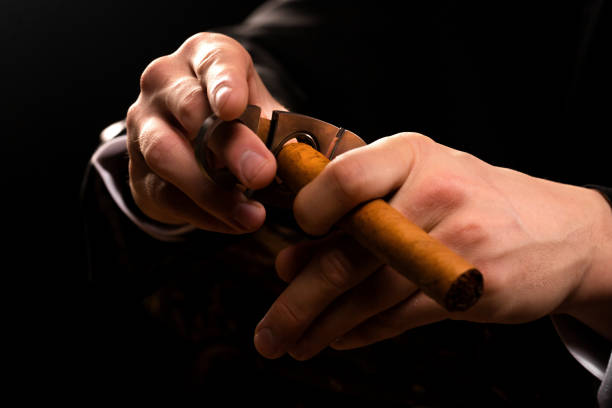cigarette: (279, 142, 488, 319)
